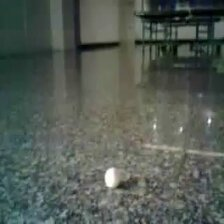w: (104, 168, 123, 188)
